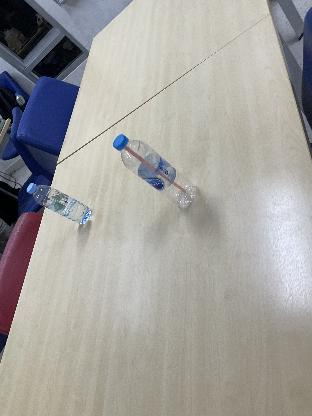Plastic Bottle: (112, 134, 198, 208), (26, 182, 94, 226)
